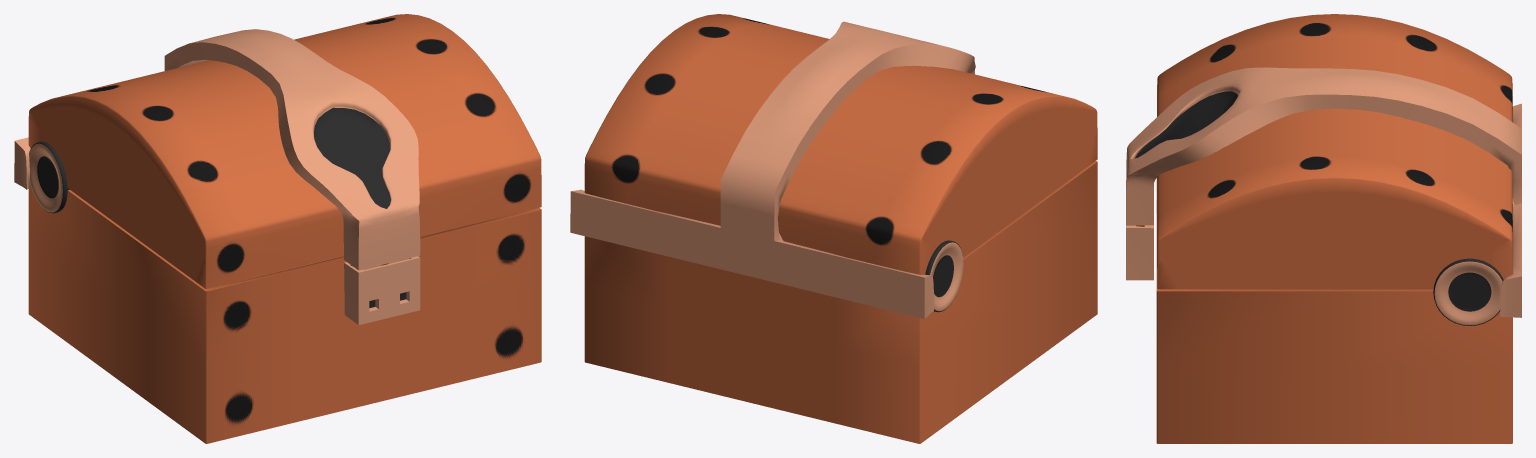
File: treasure.fbx
3 renders of one model, left to right at view 1: azimuth 30°, elevation 25°; view 2: azimuth 150°, elevation 25°; view 3: azimuth 270°, elevation 25°, orthographic.
Parts seen in each view (by area): view 1: Cube.001, Cube; view 2: Cube.001, Cube; view 3: Cube.001, Cube.
Part boxes in pixels (left/top/right/bottom): Cube.001: left=14, top=14, right=541, bottom=288; Cube: left=28, top=141, right=541, bottom=443; Cube.001: left=570, top=14, right=1097, bottom=318; Cube: left=584, top=161, right=1097, bottom=443; Cube.001: left=1126, top=14, right=1521, bottom=317; Cube: left=1126, top=178, right=1512, bottom=443.
Size of the model in its own units: 216 by 165 by 208.
Materials: 3 (1 with a texture image).
